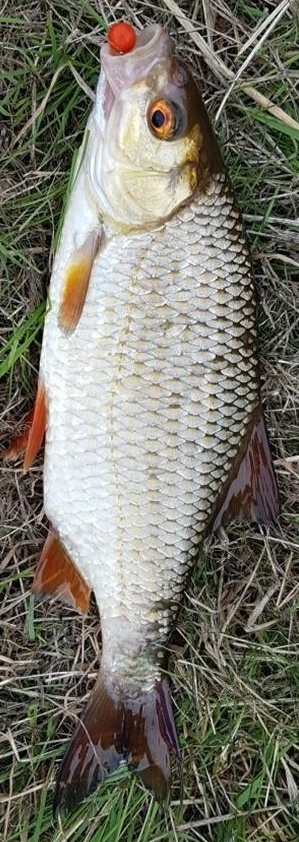Rutilus rutilus: (20, 20, 279, 822)
